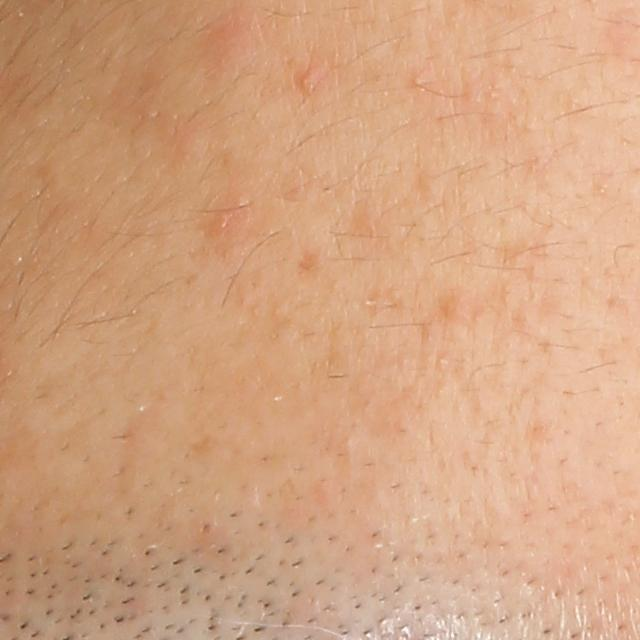comedo: (410, 74, 425, 86)
papule: (295, 61, 325, 96)
